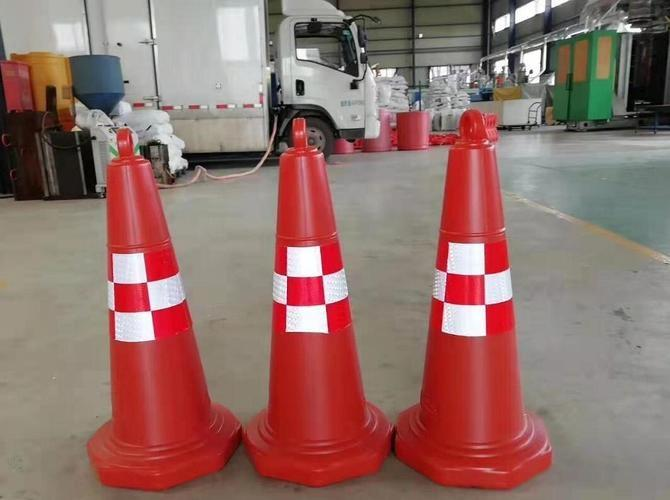cone_barrel: (391, 113, 551, 490), (78, 137, 236, 488), (240, 135, 388, 486)
